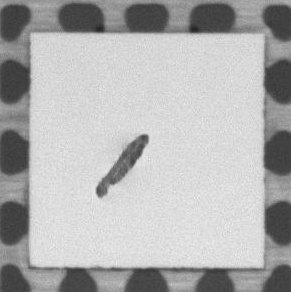DIE_INK: (94, 133, 149, 197)
